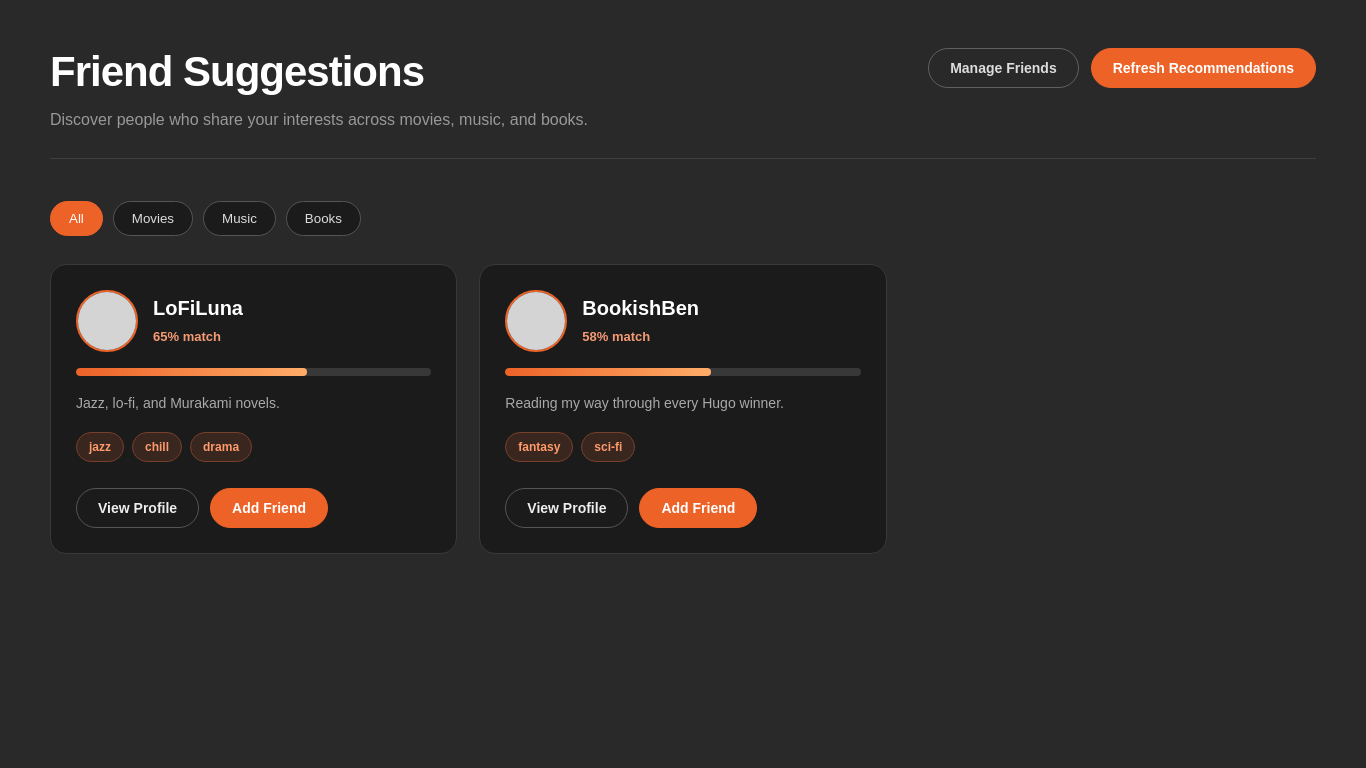
FriendSuggestionsPage › opens and closes a suggested user's profile
Click the button "View Profile" below "chill": (138, 508) x1=76 y1=488 x2=199 y2=528
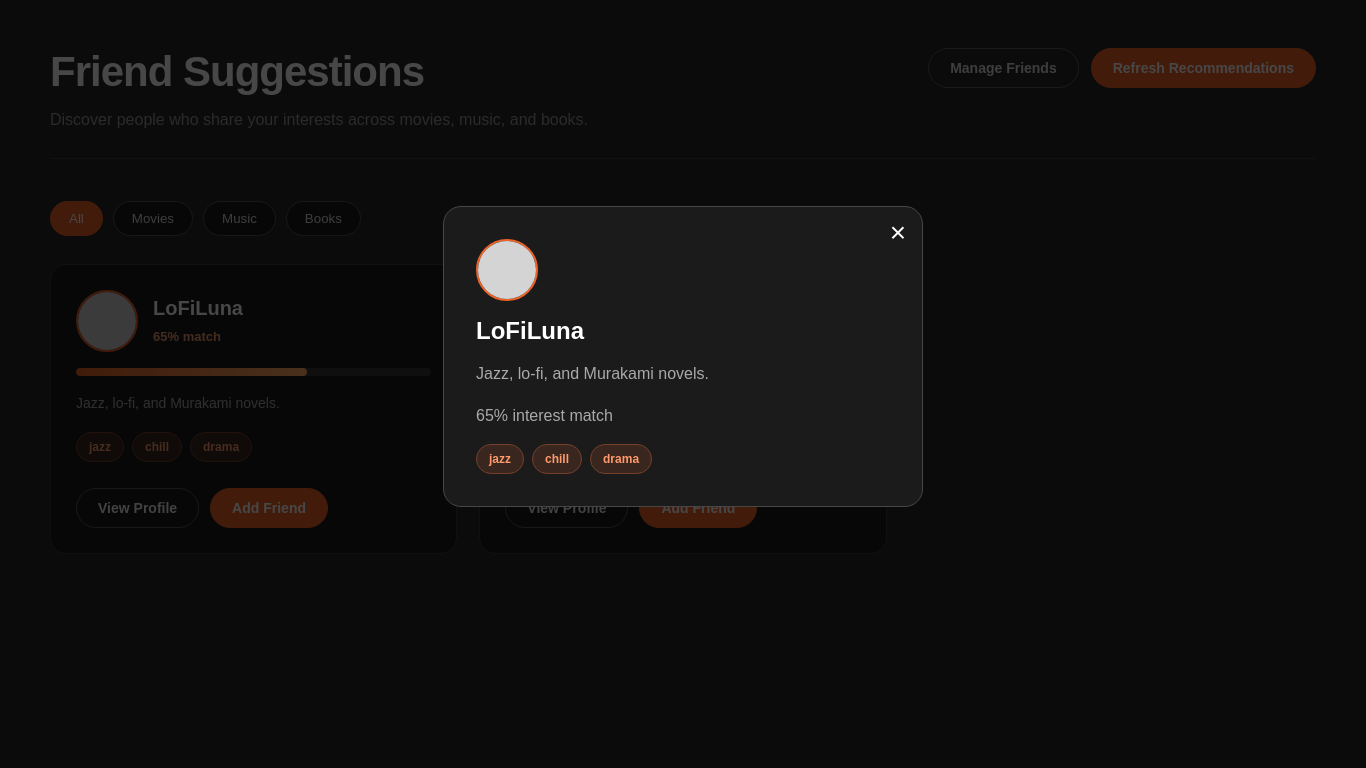
Expected: the heading "LoFiLuna" is shown, x1=476 y1=317 x2=584 y2=345
Expected: the text "jazz" is shown, x1=476 y1=444 x2=524 y2=474
Click the button named "Close profile": (898, 233) x1=890 y1=219 x2=906 y2=247
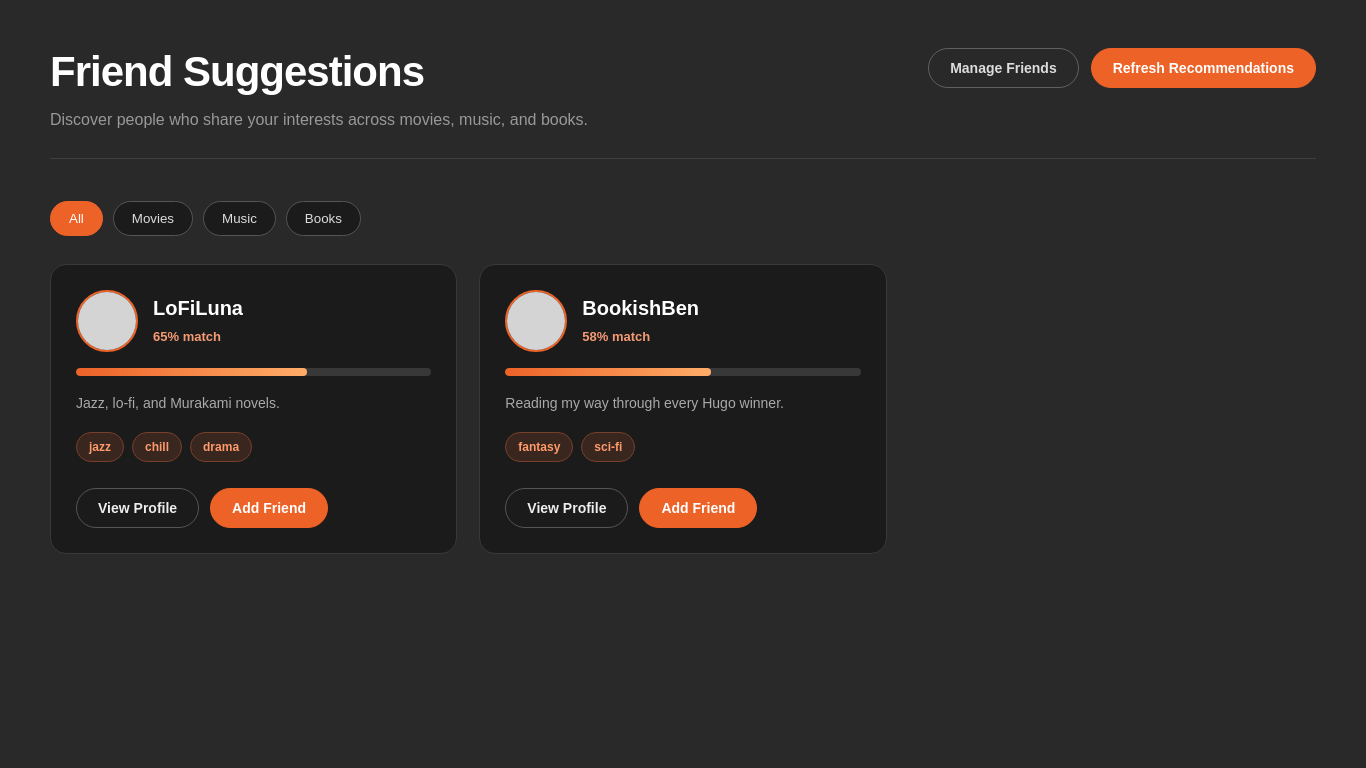
Expected: the dialog is gone
